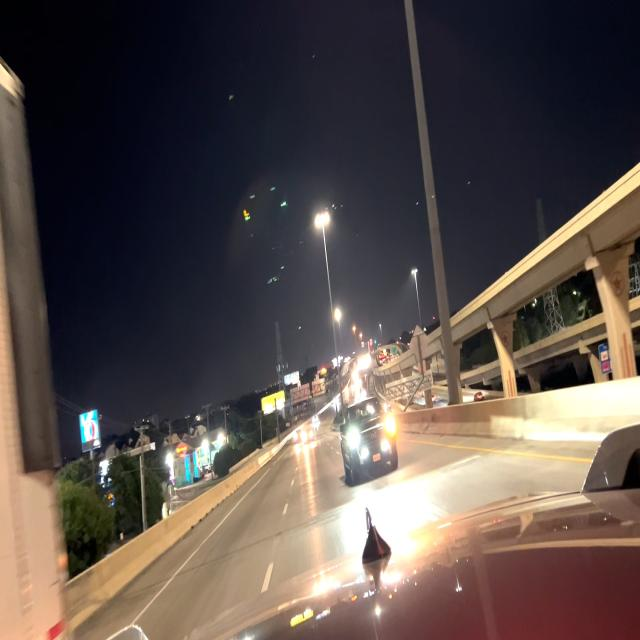back-of-sign: (408, 324, 432, 380), (289, 377, 327, 405)
